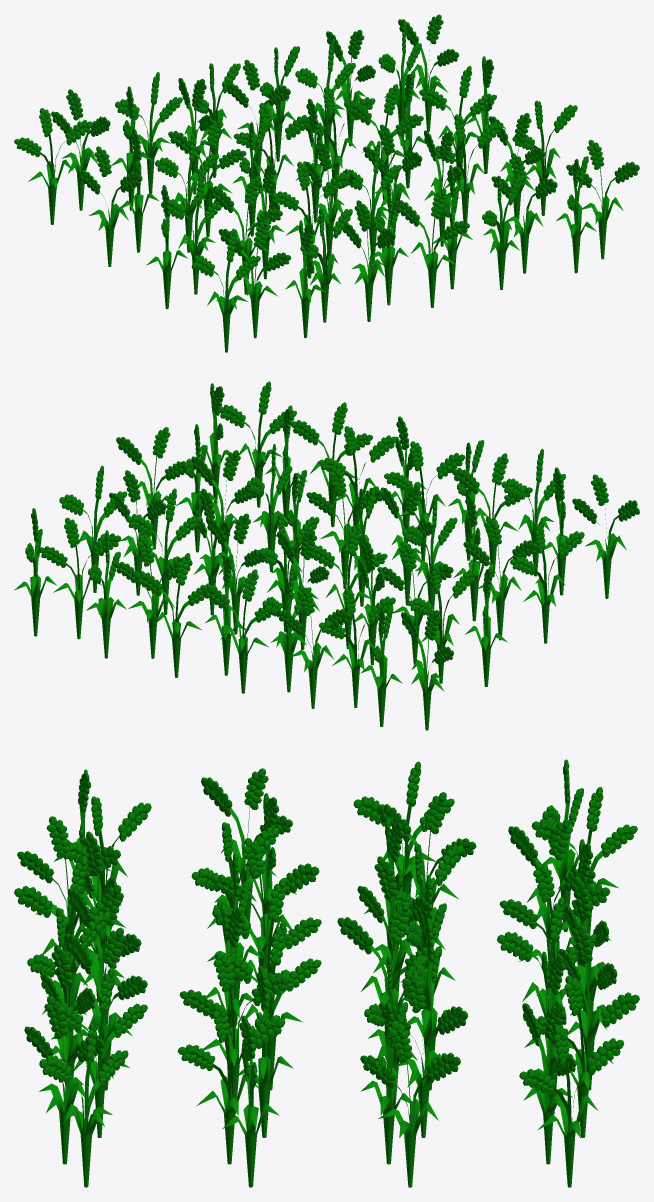
File: Wheat_F2.fbx
The picture shows the model from 3 angles, top to bottom: view 1: azimuth 30°, elevation 25°; view 2: azimuth 150°, elevation 25°; view 3: azimuth 270°, elevation 25°; orthographic projection. The views are drawn at different scales.
Parts seen in each view (by area): view 1: Wheat_F2; view 2: Wheat_F2; view 3: Wheat_F2.
Boxes of the visible parts, box(x1,y1,x2,y2) form: Wheat_F2: box(14, 14, 639, 352); Wheat_F2: box(14, 381, 639, 730); Wheat_F2: box(14, 759, 639, 1187).
Bounding box in the file's own units: 242 × 61.63 × 212.
